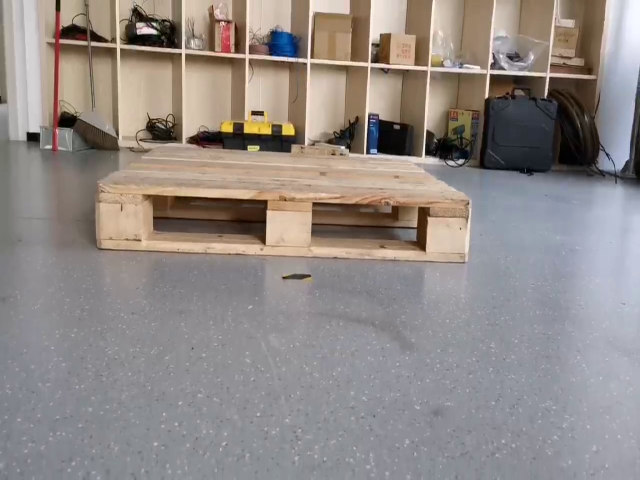block: (97, 184, 148, 251), (423, 198, 471, 262), (265, 191, 315, 250)
